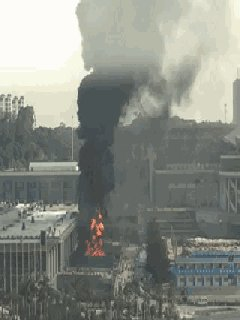fire: (76, 213, 115, 259)
smoke: (76, 4, 168, 206)
